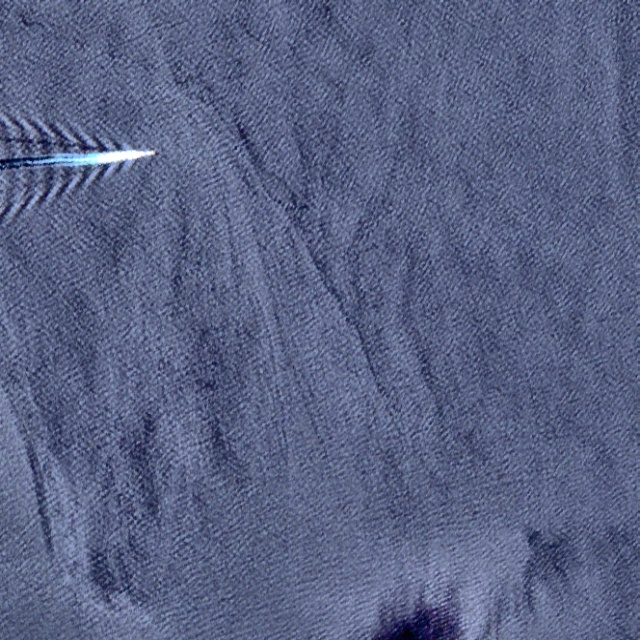wake: (12, 102, 173, 220)
